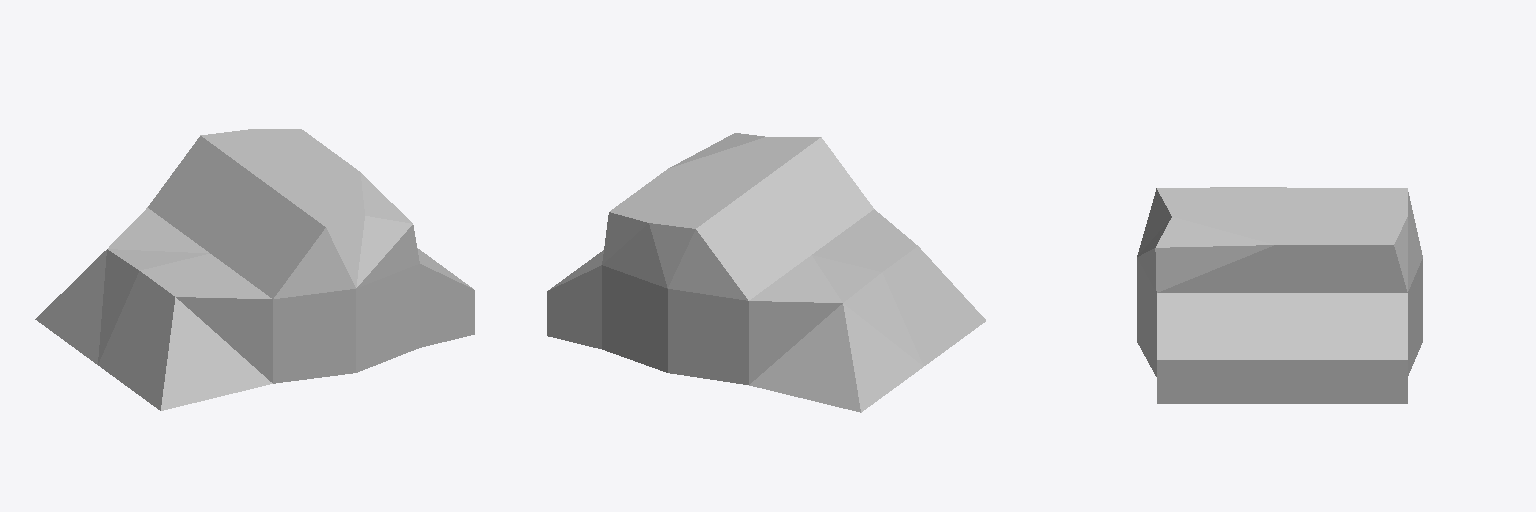
The model's file is rock2.obj.
The picture shows the model from 3 angles: view 1: azimuth 30°, elevation 25°; view 2: azimuth 150°, elevation 25°; view 3: azimuth 270°, elevation 25°; orthographic projection.
Visible parts, largest first — view 1: rock; view 2: rock; view 3: rock.
Boxes of the visible parts, <box> form: rock: <box>35,129,474,410</box>; rock: <box>547,133,985,412</box>; rock: <box>1137,187,1422,403</box>.
Size of the model in its own units: 3.34 by 1.46 by 2.64.